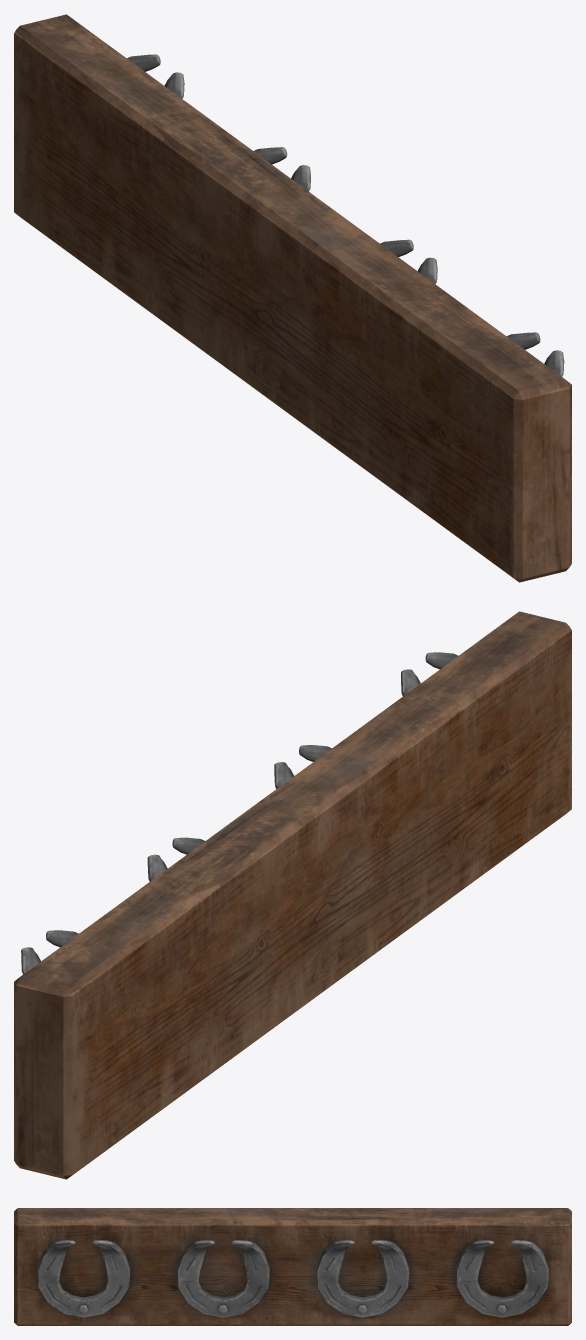
Rendered from HorseshoeRack_LP.glb.
3 views of the same model, one above another, from view 1: azimuth 30°, elevation 25°; view 2: azimuth 150°, elevation 25°; view 3: azimuth 270°, elevation 25° (orthographic). The views are drawn at different scales.
Visible parts, largest first — view 1: HorseshoeRack_LP; view 2: HorseshoeRack_LP; view 3: HorseshoeRack_LP.
Part boxes in pixels (x1,y1,x2,y2): HorseshoeRack_LP: [14, 14, 571, 582]; HorseshoeRack_LP: [14, 611, 571, 1179]; HorseshoeRack_LP: [14, 1208, 571, 1325].
Bounding box in the file's own units: 0.1343 × 0.25 × 1.2.
1 material, 1 textured.
